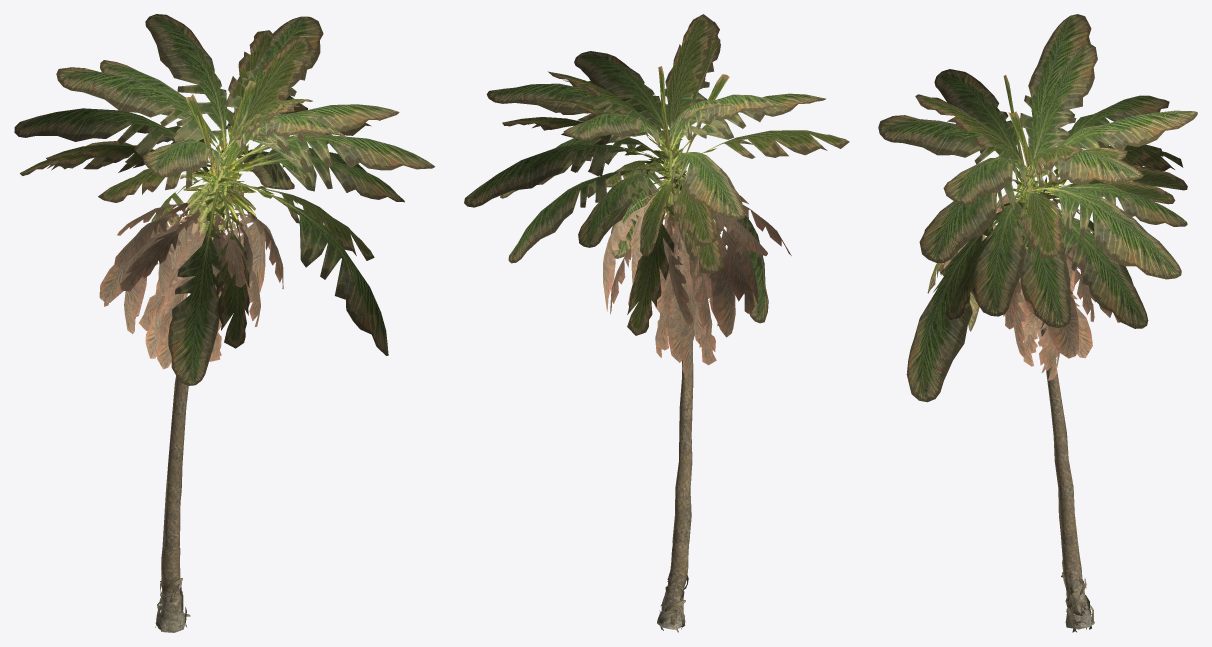
Rendered from palm.glb.
The picture shows the model from 3 angles, left to right: view 1: azimuth 30°, elevation 25°; view 2: azimuth 150°, elevation 25°; view 3: azimuth 270°, elevation 25°; orthographic projection. The views are drawn at different scales.
Parts seen in each view (by area): view 1: Palm Tree_M_01_L, Palm Tree_M_01_T; view 2: Palm Tree_M_01_L, Palm Tree_M_01_T; view 3: Palm Tree_M_01_L, Palm Tree_M_01_T.
Part boxes in pixels (bbox=[...]): Palm Tree_M_01_L: bbox=[14, 14, 434, 631]; Palm Tree_M_01_T: bbox=[155, 293, 191, 632]; Palm Tree_M_01_L: bbox=[464, 14, 849, 632]; Palm Tree_M_01_T: bbox=[657, 188, 693, 629]; Palm Tree_M_01_L: bbox=[878, 14, 1197, 632]; Palm Tree_M_01_T: bbox=[1040, 322, 1094, 629].
Size of the model in its own units: 4.7 by 8.12 by 4.19.
4 materials, 4 textured.
